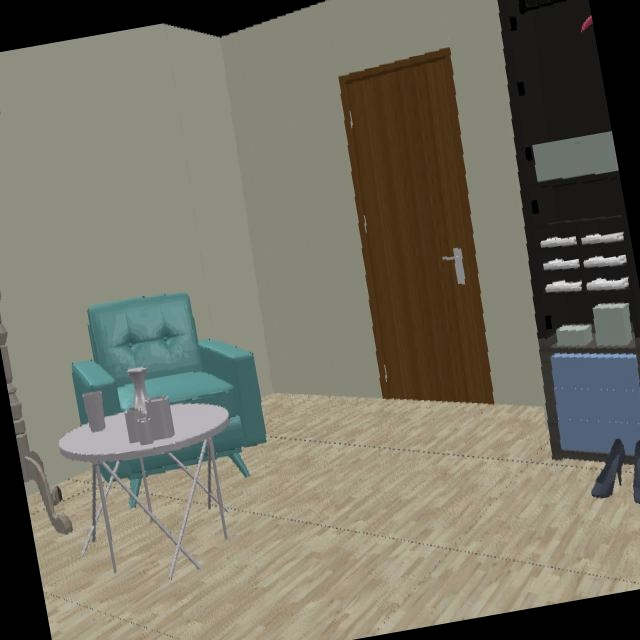sofa: (71, 292, 268, 477)
table: (58, 403, 229, 578)
wardrobe: (496, 0, 640, 459)
